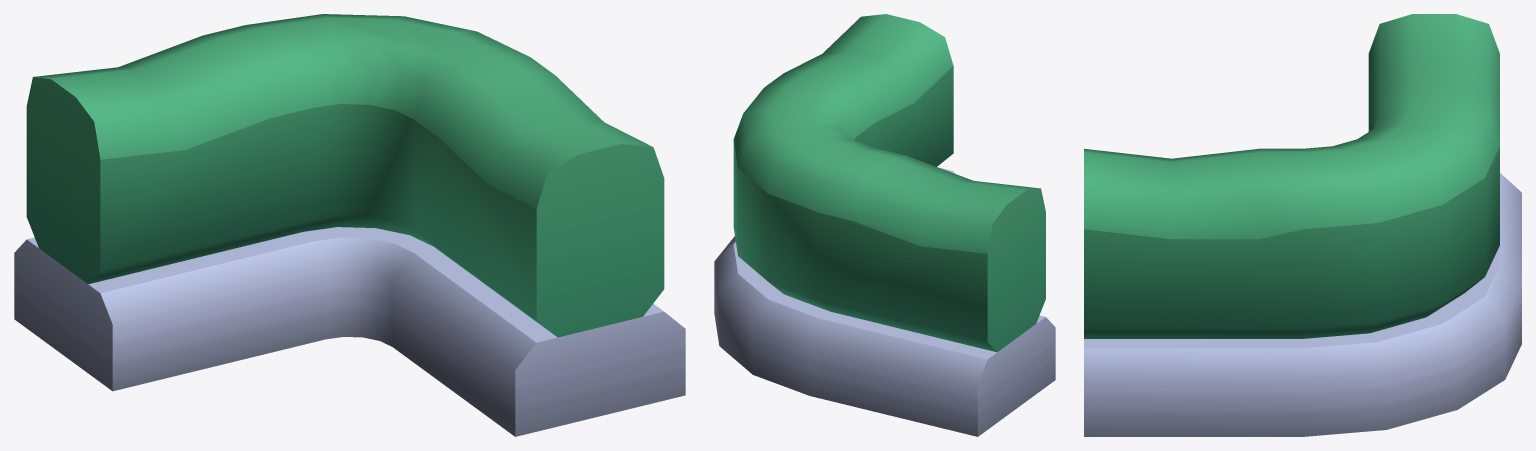
File: k-fantasy-town-hedge-large-curved.glb
3 renders of one model, left to right at view 1: azimuth 30°, elevation 25°; view 2: azimuth 150°, elevation 25°; view 3: azimuth 270°, elevation 25°, orthographic. The views are drawn at different scales.
Visible parts, largest first — view 1: hedge-large-curved; view 2: hedge-large-curved; view 3: hedge-large-curved.
Boxes of the visible parts, x1=… form: hedge-large-curved: x1=14, y1=14, x2=685, y2=436; hedge-large-curved: x1=714, y1=14, x2=1055, y2=436; hedge-large-curved: x1=1084, y1=14, x2=1521, y2=436.
Size of the model in its own units: 1 by 0.6001 by 1.
1 material, 1 textured.
